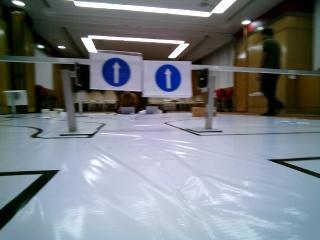straight: (89, 49, 142, 90), (145, 59, 188, 99)
